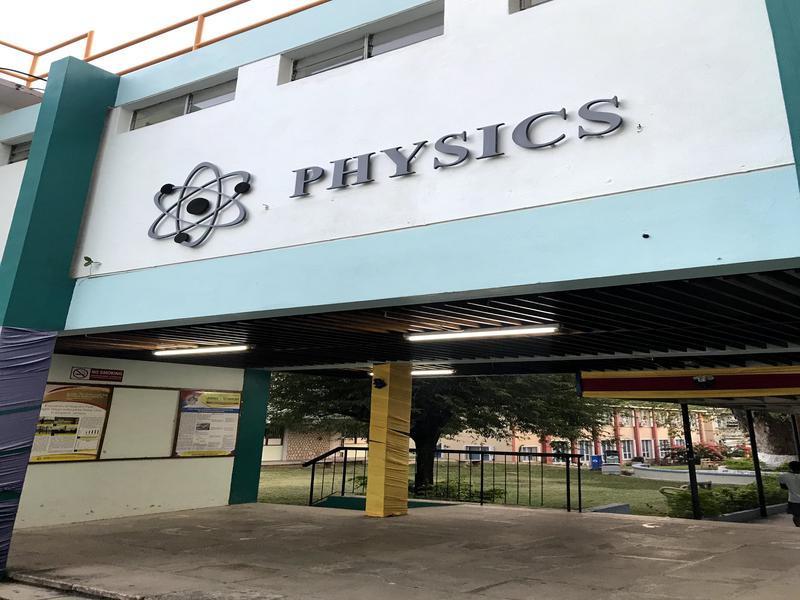18.0053657_-76.7491452_physicssign: (132, 84, 642, 270)
